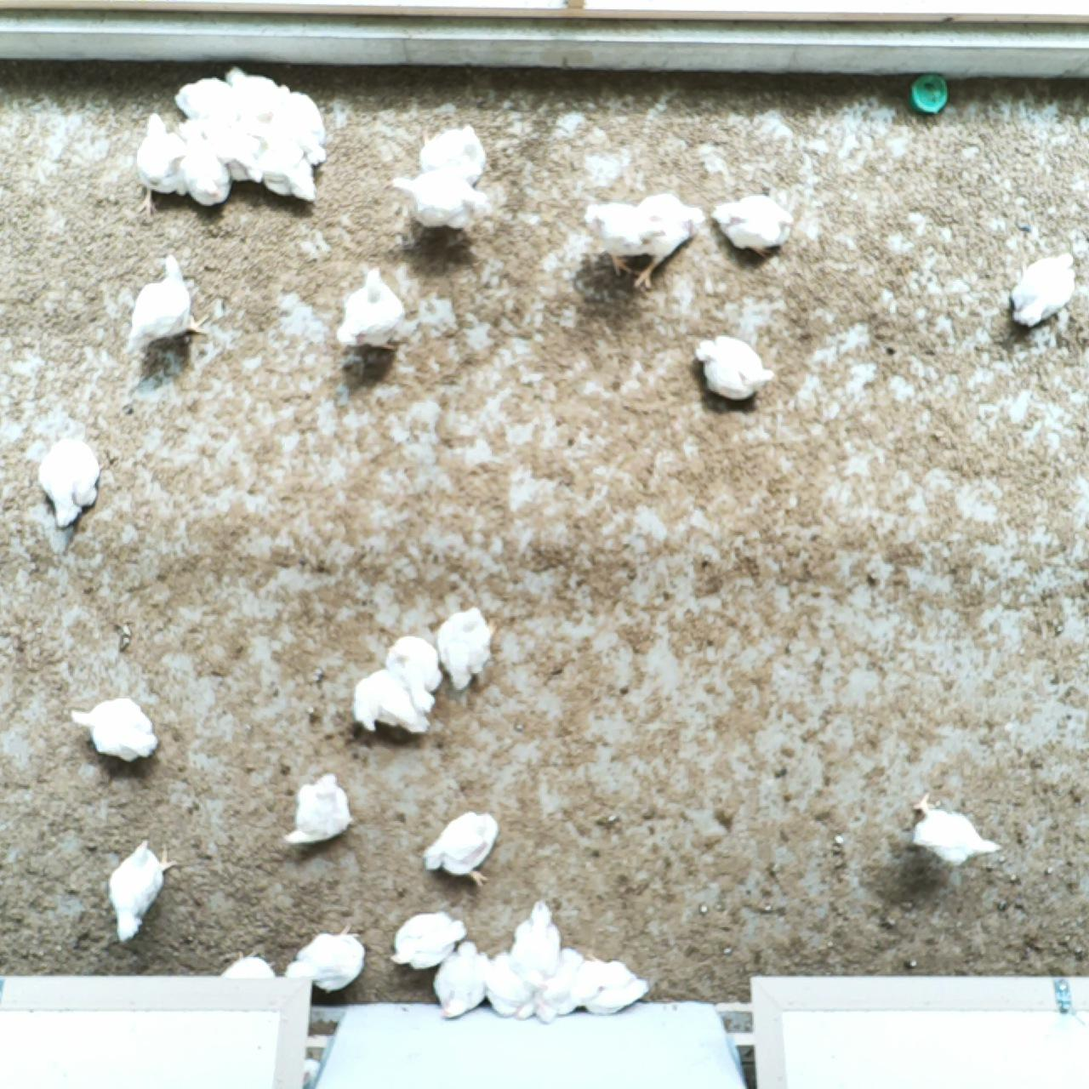chicken: (128, 249, 211, 354), (104, 835, 178, 944), (627, 191, 707, 291), (911, 789, 1003, 872), (37, 415, 100, 530), (332, 264, 406, 353), (387, 172, 491, 233), (136, 111, 197, 214), (562, 949, 650, 1020), (421, 811, 500, 890), (581, 200, 661, 278), (69, 694, 161, 761), (693, 331, 774, 402), (711, 191, 793, 260), (285, 770, 356, 849), (351, 667, 430, 738), (282, 928, 365, 995), (436, 606, 498, 694), (203, 949, 278, 1020), (511, 901, 569, 992), (1009, 252, 1078, 328), (390, 909, 469, 971), (270, 82, 329, 165), (257, 127, 317, 208), (418, 123, 490, 190), (432, 939, 490, 1022), (175, 120, 231, 205), (381, 634, 440, 711), (478, 946, 537, 1020), (533, 946, 588, 1025), (198, 122, 262, 188), (223, 67, 285, 126), (172, 76, 244, 126)
